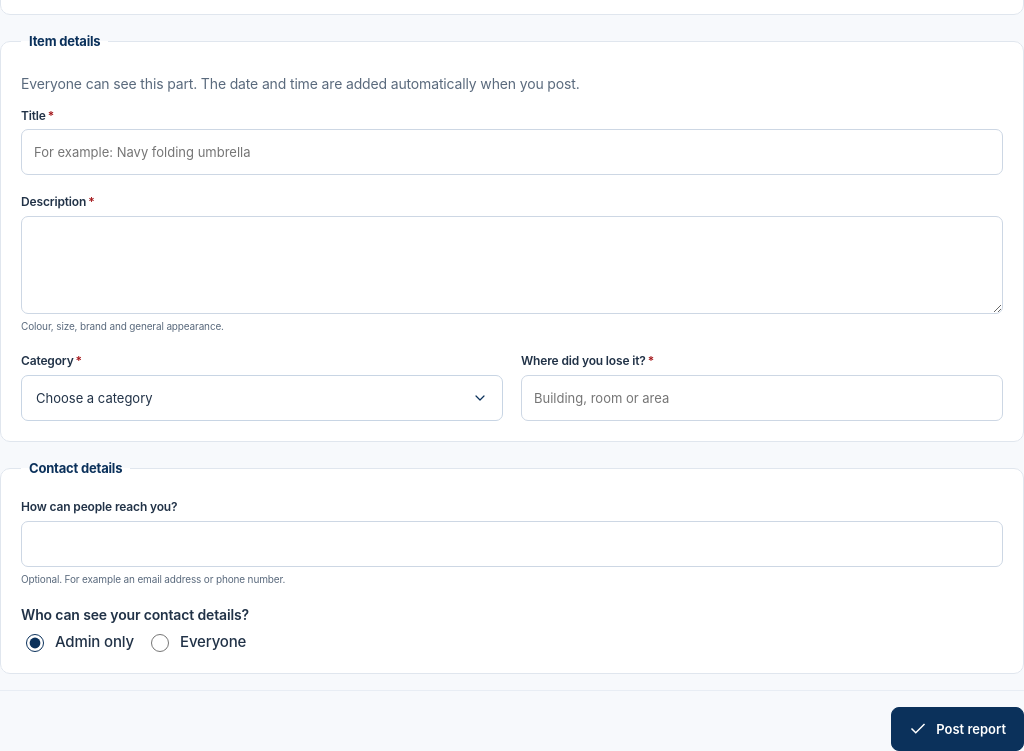
Test: FE-LF Lost and found › FE-LF-1 report form has no date field and validates before calling the API
(page scrolled)
What coordinates should you click on to do the following:
click the button "Post report"
I would click on:
 (958, 729)
Its box is [891,707,1023,750].
(page scrolled)
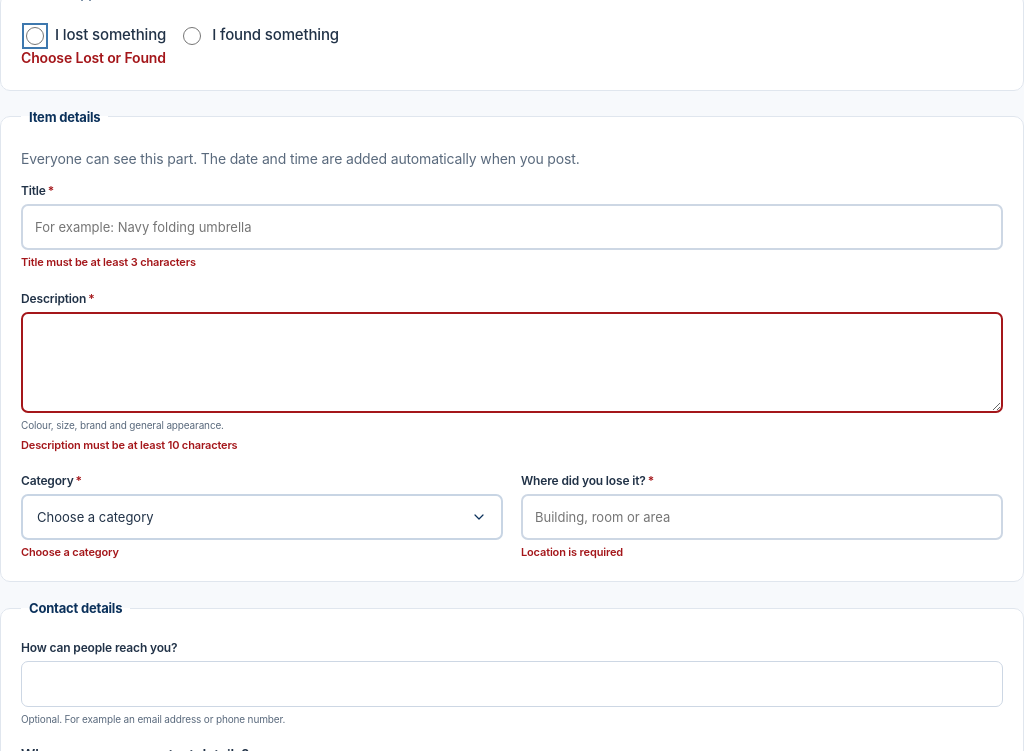
Expected: the text "Choose Lost or Found" is shown, [21,49,166,66]
